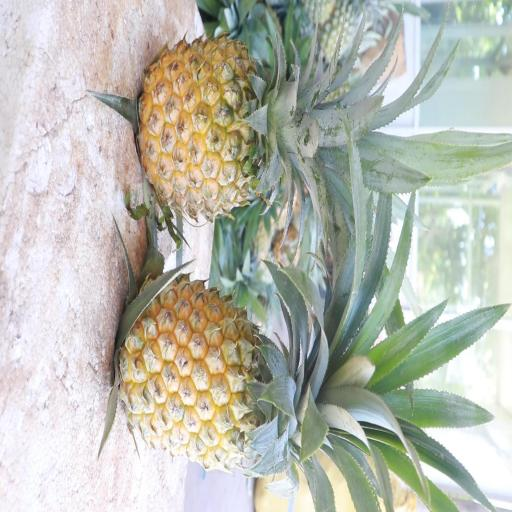Pineapple - v8 v1: (117, 268, 371, 475), (134, 29, 349, 225)
